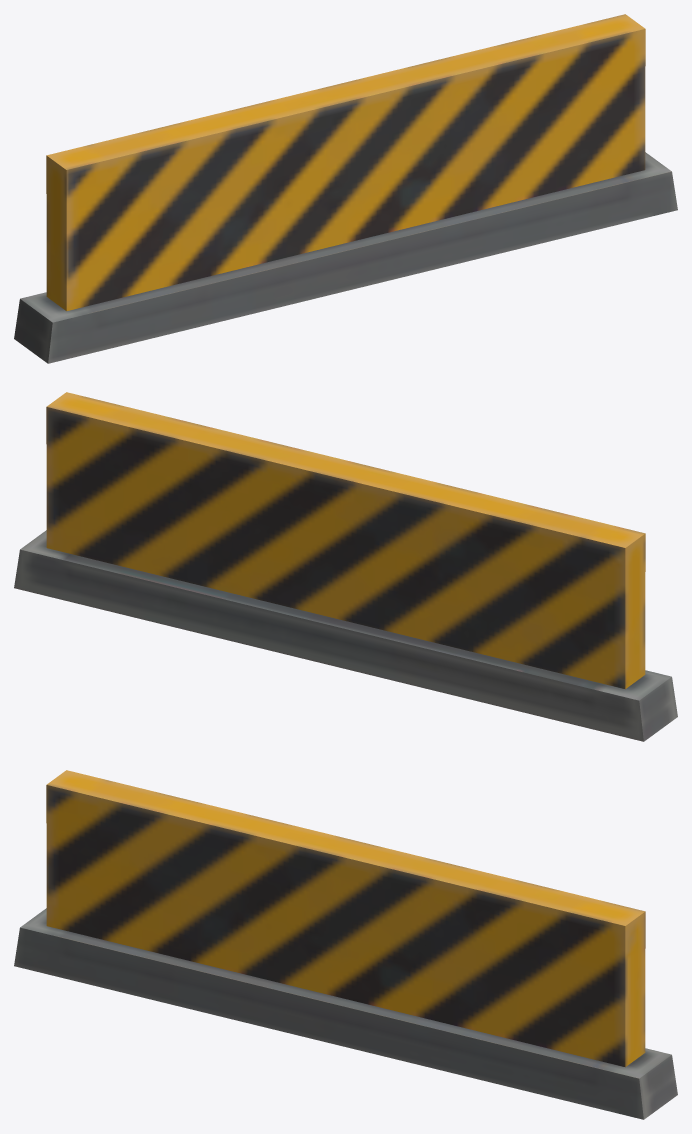
Rendered from Pfb_Roadblock.fbx.
3 views of the same model, one above another, from view 1: azimuth 30°, elevation 25°; view 2: azimuth 150°, elevation 25°; view 3: azimuth 330°, elevation 25° (orthographic).
Visible parts, largest first — view 1: Mat_Roadblocks01; view 2: Mat_Roadblocks01; view 3: Mat_Roadblocks01.
Part boxes in pixels (x1,y1,x2,y2): Mat_Roadblocks01: (14,14,677,363); Mat_Roadblocks01: (14,392,677,741); Mat_Roadblocks01: (14,770,677,1119).
Size of the model in its own units: 1.71 by 0.4744 by 0.1607.
1 material, 1 textured.
